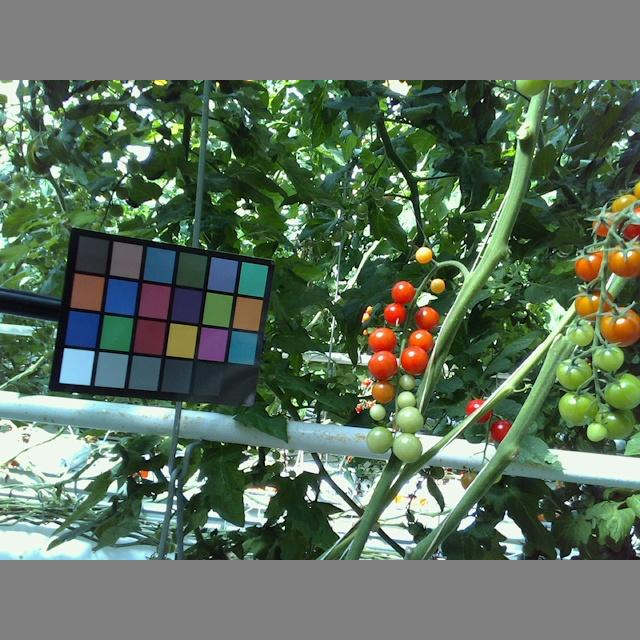green: (593, 403, 635, 442), (558, 391, 601, 426), (555, 355, 592, 389), (603, 377, 640, 410), (389, 431, 422, 465), (592, 343, 624, 372), (395, 403, 422, 434), (367, 423, 394, 453), (563, 321, 595, 346), (394, 392, 417, 410), (399, 371, 416, 389), (368, 403, 387, 419)
pink: (598, 307, 640, 350), (573, 290, 617, 321), (605, 241, 640, 279), (573, 247, 611, 281), (367, 324, 397, 356), (399, 343, 427, 376), (367, 352, 398, 381), (407, 328, 433, 356), (589, 212, 618, 237), (392, 279, 416, 306), (372, 378, 396, 405), (382, 301, 407, 326), (414, 306, 439, 331), (415, 247, 433, 265), (428, 277, 446, 294)
